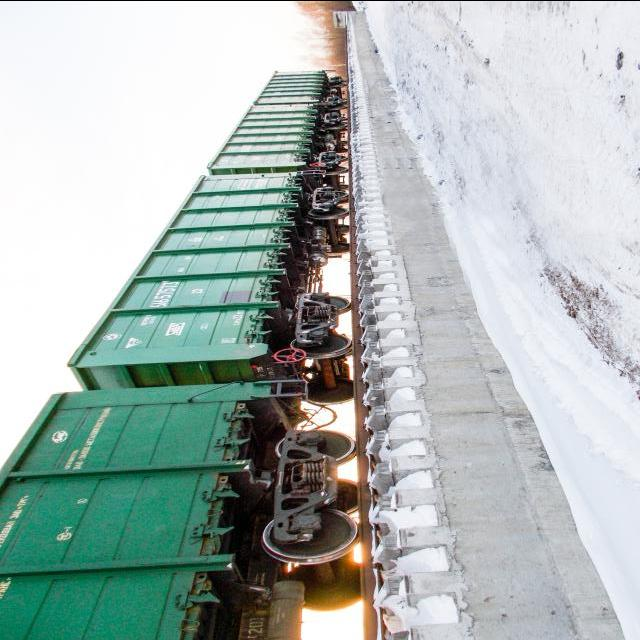wagon: (147, 280, 180, 308)
